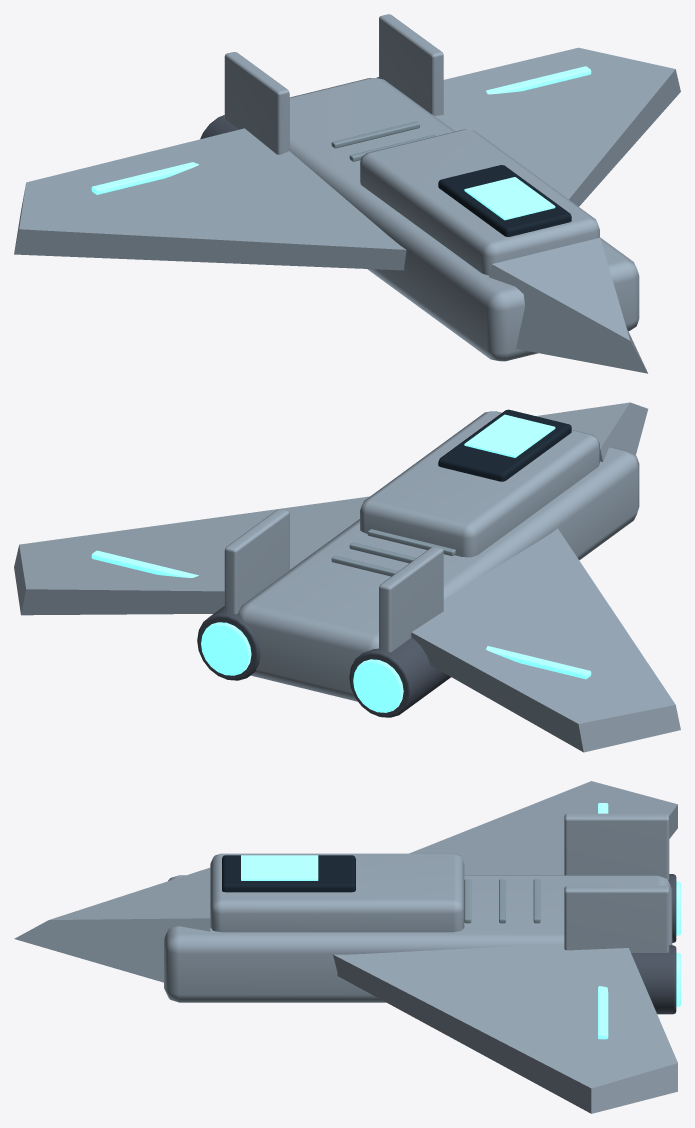
Rendered from ship.glb.
3 views of the same model, one above another, from view 1: azimuth 30°, elevation 25°; view 2: azimuth 150°, elevation 25°; view 3: azimuth 270°, elevation 25° (orthographic). The views are drawn at different scales.
Visible parts, largest first — view 1: ship_Mesh; view 2: ship_Mesh; view 3: ship_Mesh.
Part boxes in pixels (bbox=[...]): ship_Mesh: bbox=[14, 14, 680, 373]; ship_Mesh: bbox=[14, 402, 680, 752]; ship_Mesh: bbox=[14, 781, 680, 1113].
Size of the model in its own units: 6.4 by 1.19 by 5.78.
